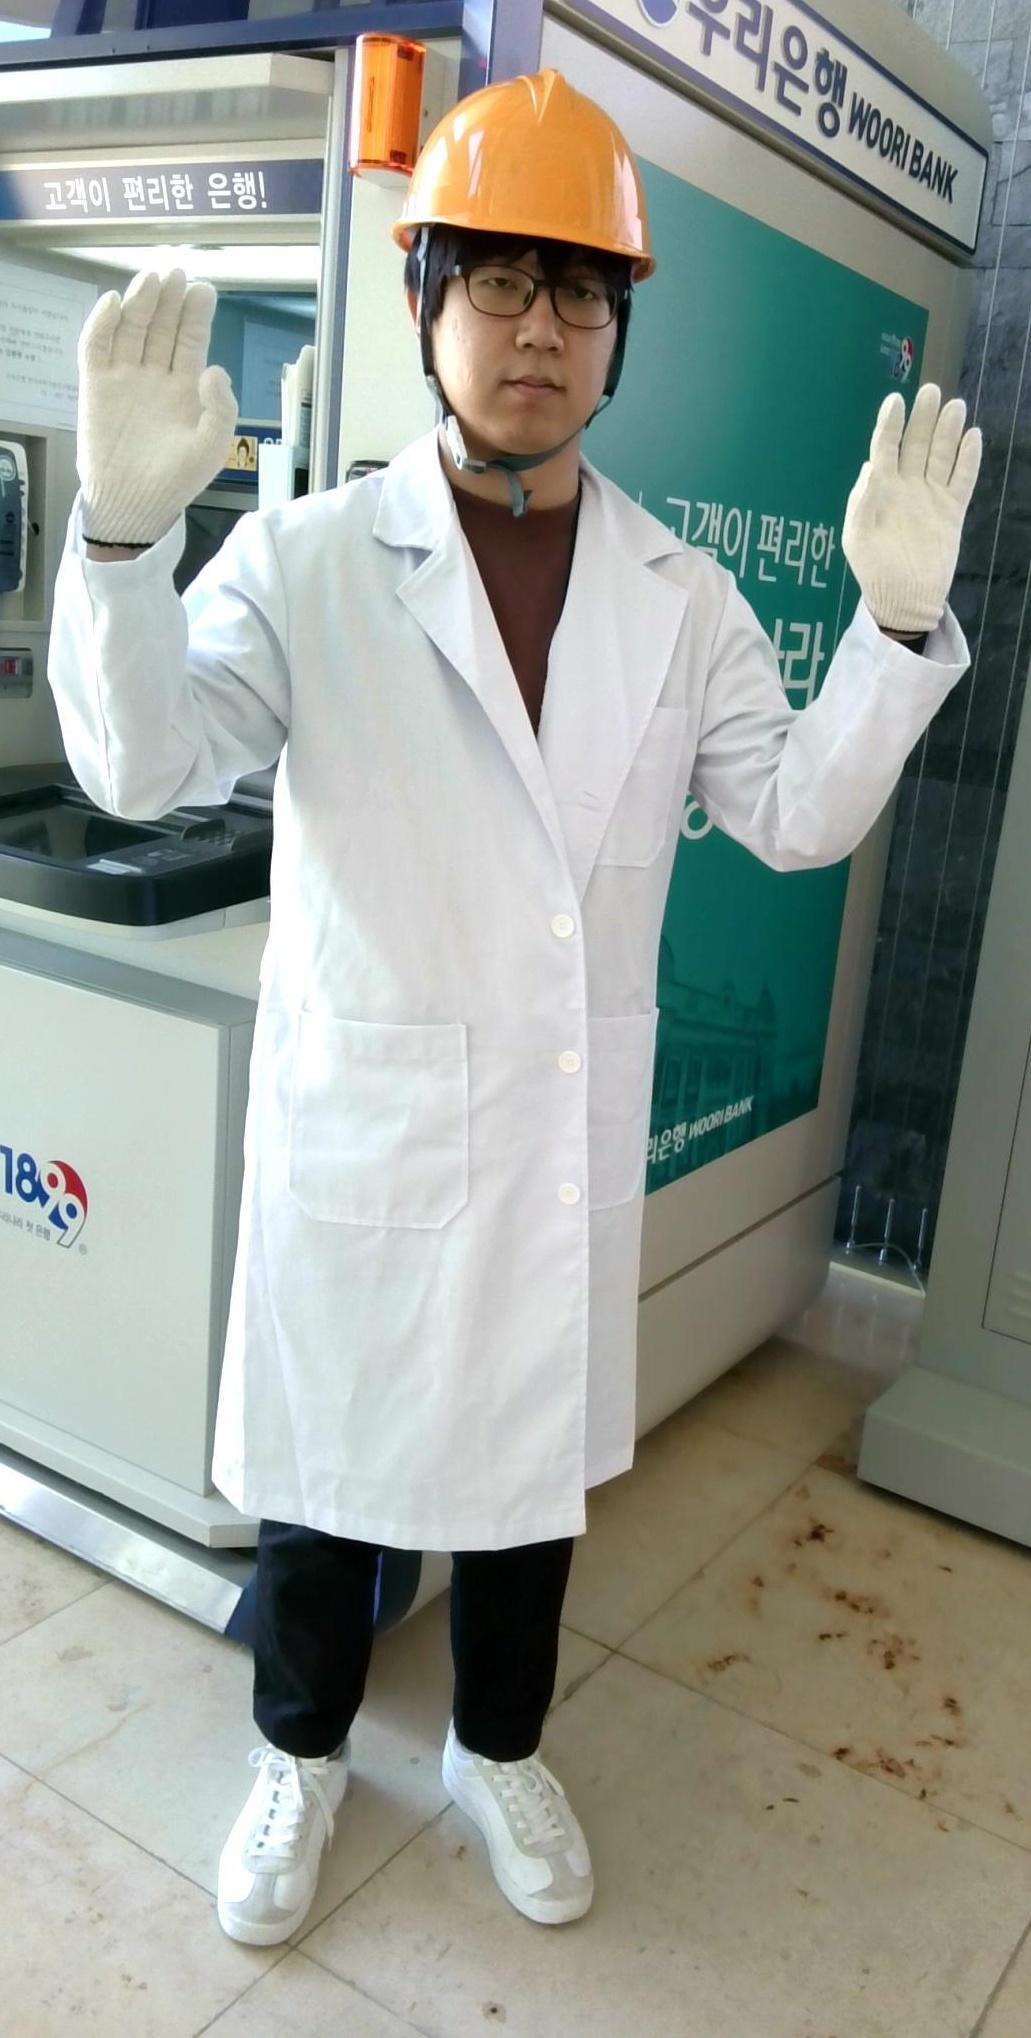lab_coat: (229, 536, 711, 1528)
